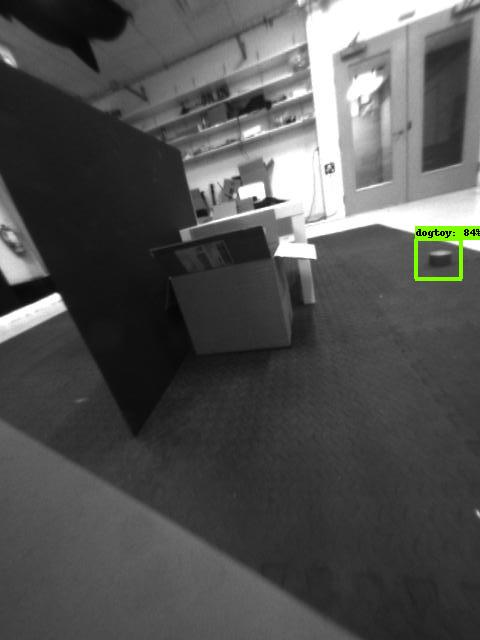dogtoy: (419, 241, 463, 276)
